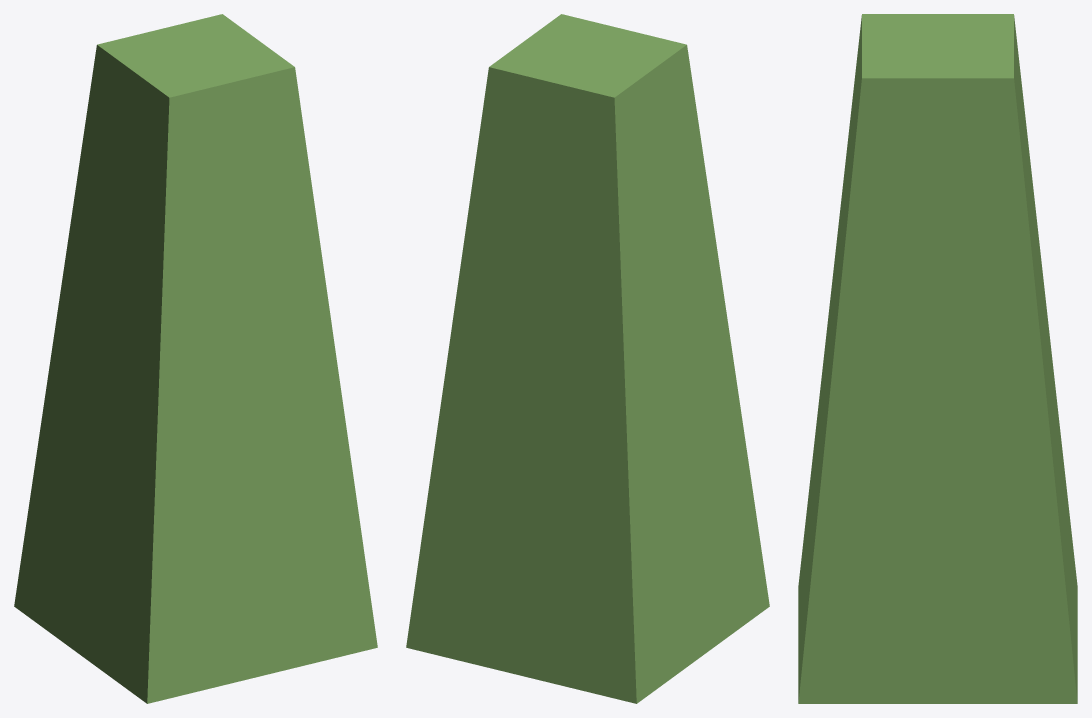
The model's file is vegetation_009.fbx.
The picture shows the model from 3 angles, left to right: view 1: azimuth 30°, elevation 25°; view 2: azimuth 150°, elevation 25°; view 3: azimuth 270°, elevation 25°; orthographic projection. The views are drawn at different scales.
Parts seen in each view (by area): view 1: vegetation_009; view 2: vegetation_009; view 3: vegetation_009.
Boxes of the visible parts, x1,y1,x2,y2 form: vegetation_009: (14,14,377,703); vegetation_009: (406,14,769,703); vegetation_009: (798,14,1077,703).
Size of the model in its own units: 51.91 by 123 by 51.91.
